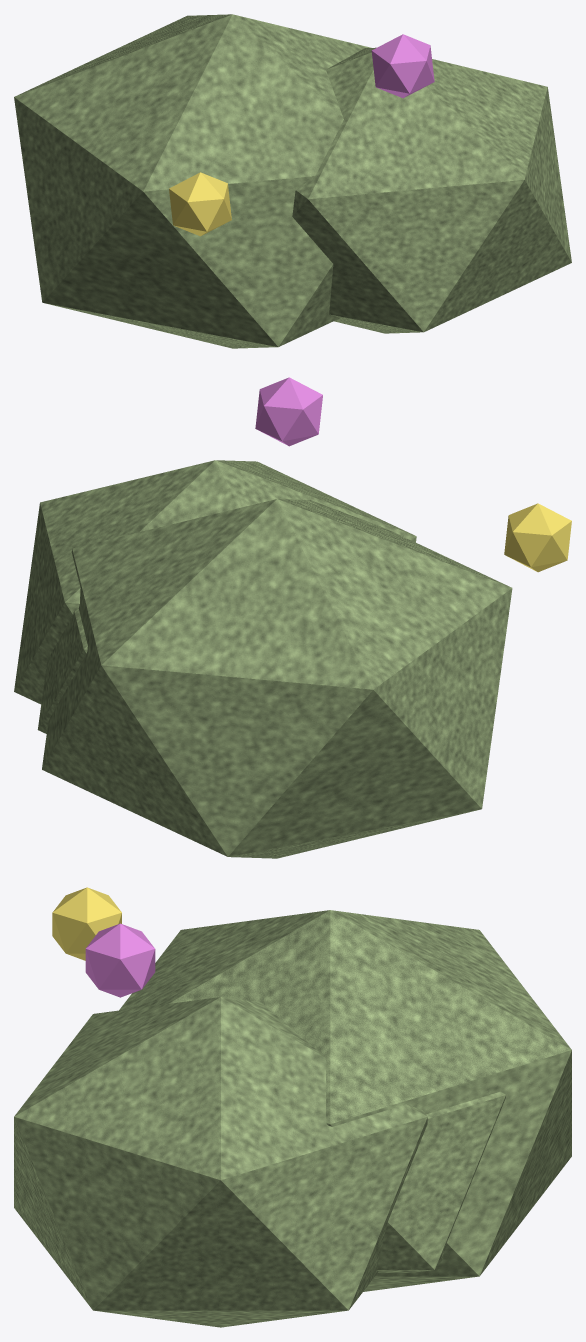
File: bush_flowering.glb
3 views of the same model, one above another, from view 1: azimuth 30°, elevation 25°; view 2: azimuth 150°, elevation 25°; view 3: azimuth 270°, elevation 25° (orthographic). The views are drawn at different scales.
Parts seen in each view (by area): view 1: bush_356, bush_357, bloom_358, bloom_361; view 2: bush_356, bush_357, bloom_358, bloom_361, bush_355; view 3: bush_357, bush_356, bush_355, bloom_361, bloom_358.
Boxes of the visible parts, box(x1,y1,x2,y2) form: bush_356: box(14, 14, 371, 348); bush_357: box(292, 47, 571, 333); bloom_358: box(169, 172, 231, 236); bloom_361: box(371, 34, 434, 98); bush_356: box(42, 499, 512, 858); bush_357: box(14, 460, 416, 704); bloom_358: box(504, 503, 571, 572); bloom_361: box(255, 377, 322, 446); bush_355: box(37, 609, 87, 733); bush_357: box(14, 997, 427, 1327); bush_356: box(119, 910, 571, 1291); bush_355: box(376, 1091, 505, 1272); bloom_361: box(85, 923, 155, 997); bloom_358: box(52, 887, 121, 960).
Bounding box in the file's own units: 0.7468 × 0.5631 × 0.6815.
Materials: 5 (1 with a texture image).
